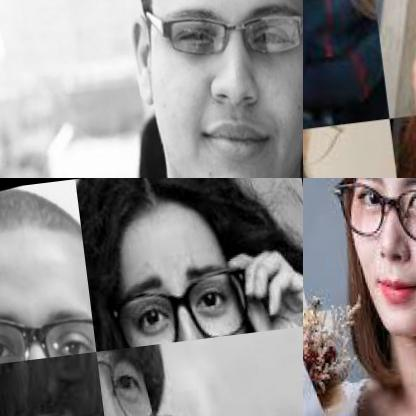Glasses: (331, 178, 415, 257), (303, 123, 357, 177)
glasses: (96, 248, 272, 349), (133, 0, 302, 72), (0, 282, 95, 370), (96, 343, 173, 415)
